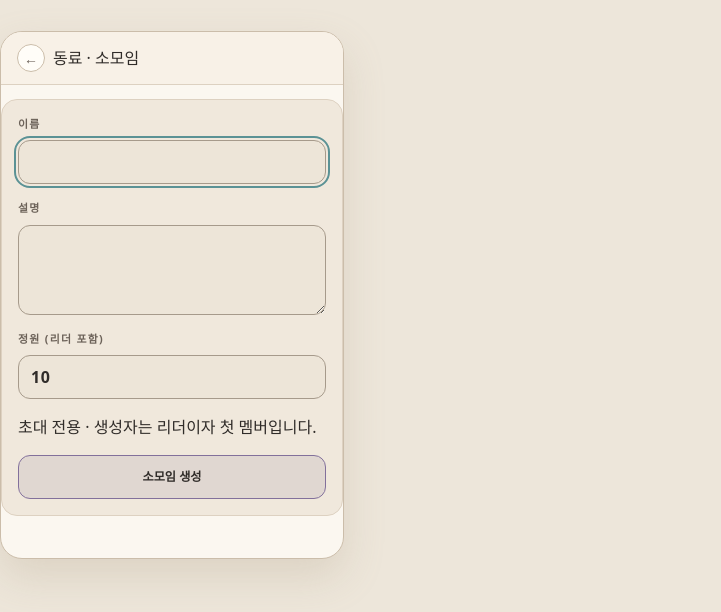
retries only the bookmark when creation succeeded
In the field labelled "이름": point(172, 162) 18,140 -> 326,184, type "동료 모임"
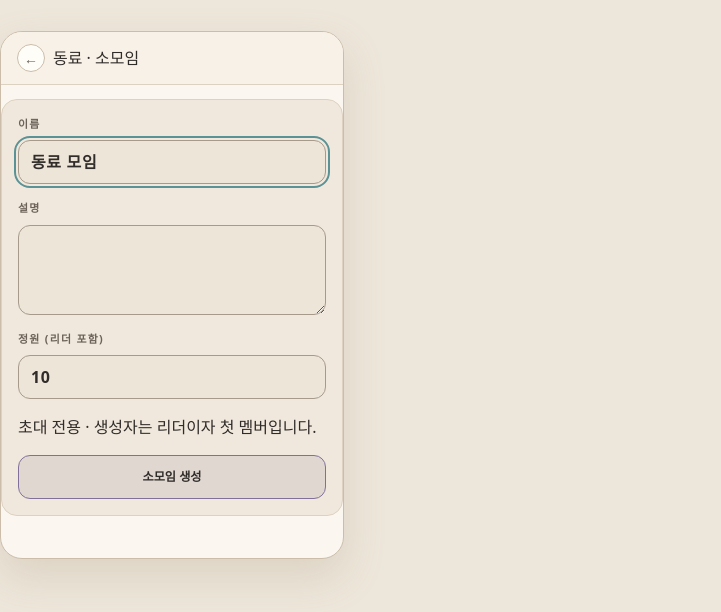
Click the button "소모임 생성": point(172, 477) 18,455 -> 326,499
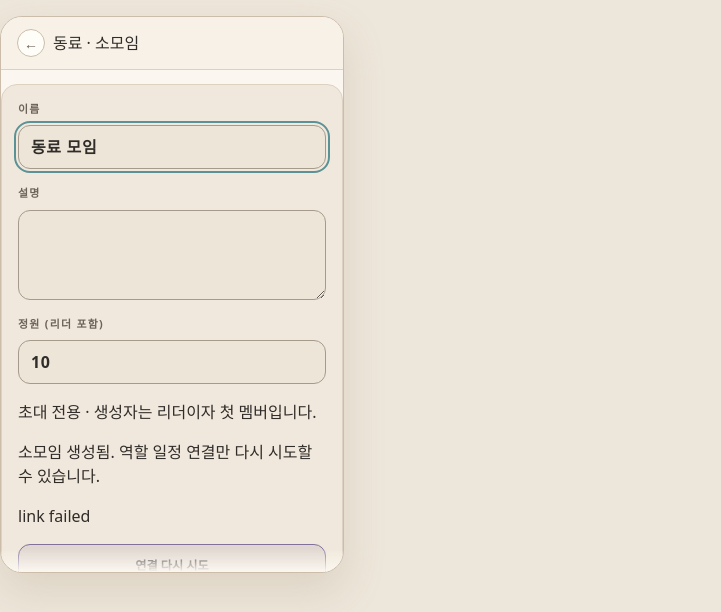
Result: the button "연결 다시 시도" is shown at 18,544 -> 326,573
Click the button "연결 다시 시도": point(172, 566) 18,544 -> 326,588
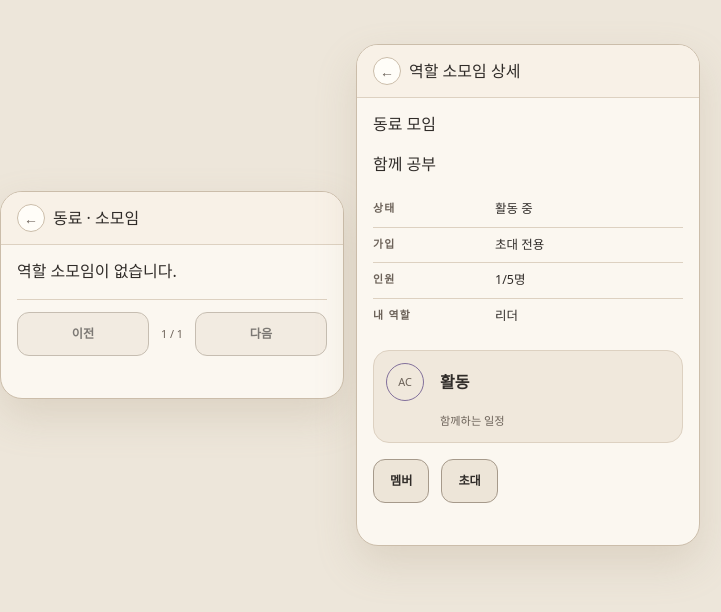
Result: the text "1/5명" is shown at 495,272 -> 525,289
